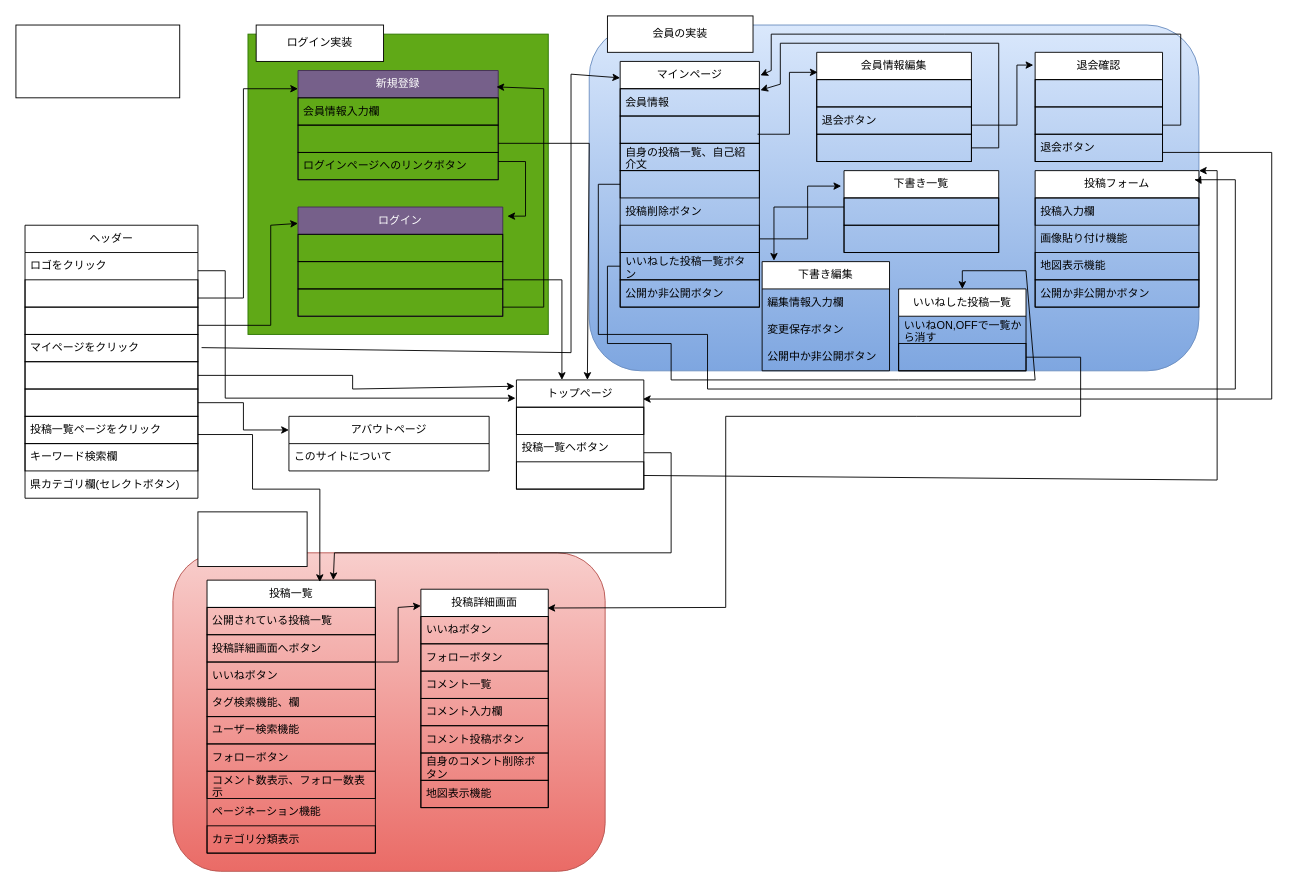
Image size: 1295x887. Some labels were removed from this diagram. The centre of each missing label's shape, as x and y in pixels:
"aboutをクリック" belongs at pixel 111 402.
"ユーザー" belongs at pixel 97 61.
"ログアウトをクリック" belongs at pixel 111 375.
"ログインをクリック" belongs at pixel 111 320.
"ログイン情報入力欄" belongs at pixel 400 247.
"下書き一覧ボタン" belongs at pixel 689 238.
"会員情報入力、自己紹介文入力" belongs at pixel 893 93.
"会員編集ボタン" belongs at pixel 689 129.
"削除ボタン" belongs at pixel 921 238.
"変更ボタン" belongs at pixel 893 147.
"情報を入力し、ログインボタンをクリック" belongs at pixel 400 275.
"投稿フォームへボタン" belongs at pixel 580 475.
"投稿実装" belongs at pixel 252 538.
"投稿画面へボタン" belongs at pixel 689 184.
"投稿詳細画面ボタン" belongs at pixel 962 357.
"新着投稿一覧" belongs at pixel 580 420.
"新規登録をクリック" belongs at pixel 111 293.
"新規登録ボタン" belongs at pixel 397 138.
"新規登録リンクボタン" belongs at pixel 400 302.
"編集ボタン" belongs at pixel 921 211.
"退会しないボタン" belongs at pixel 1098 120.
"退会を確認する文章" belongs at pixel 1098 93.
